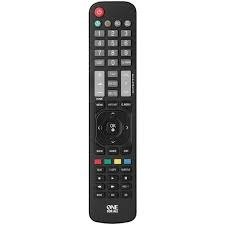remote control: (86, 3, 138, 224)
